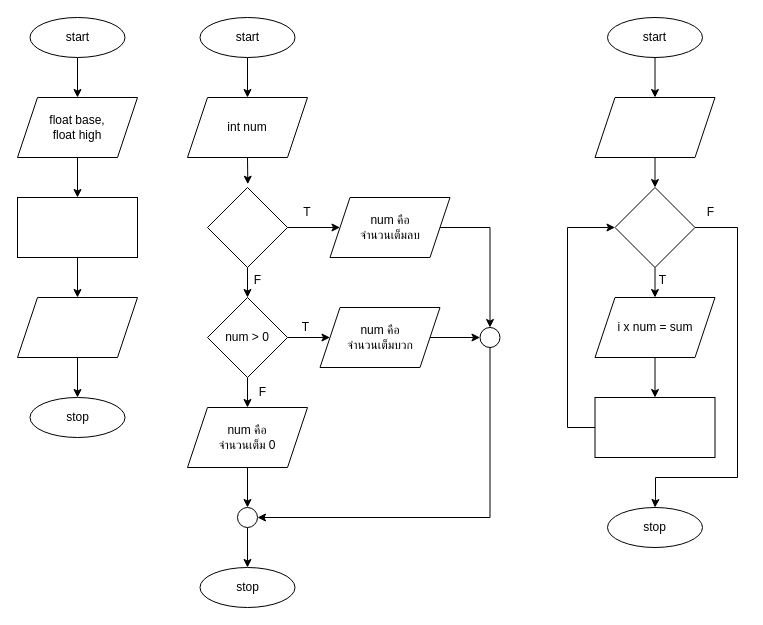
Some shapes in this 763 by 625 pixel diagram are drawn without their labels. Here are the shapes that lost their labels. From the top down, the centre of each, then its label:
point 654,127: เลือกแม่สูตรคูณ; int num; int i = 1;
point 77,227: answer = 0.5 * base * hige
point 247,227: num < 0
point 654,227: i < 13
point 77,327: answer
point 654,427: i = i + 1
